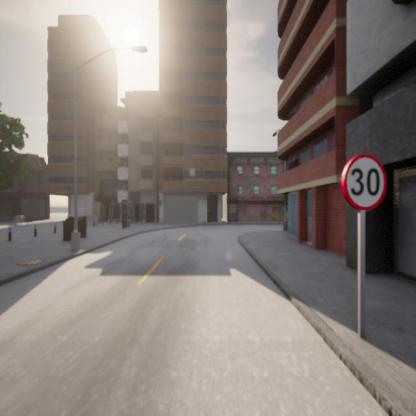traffic_sign_30: (341, 154, 388, 212)
